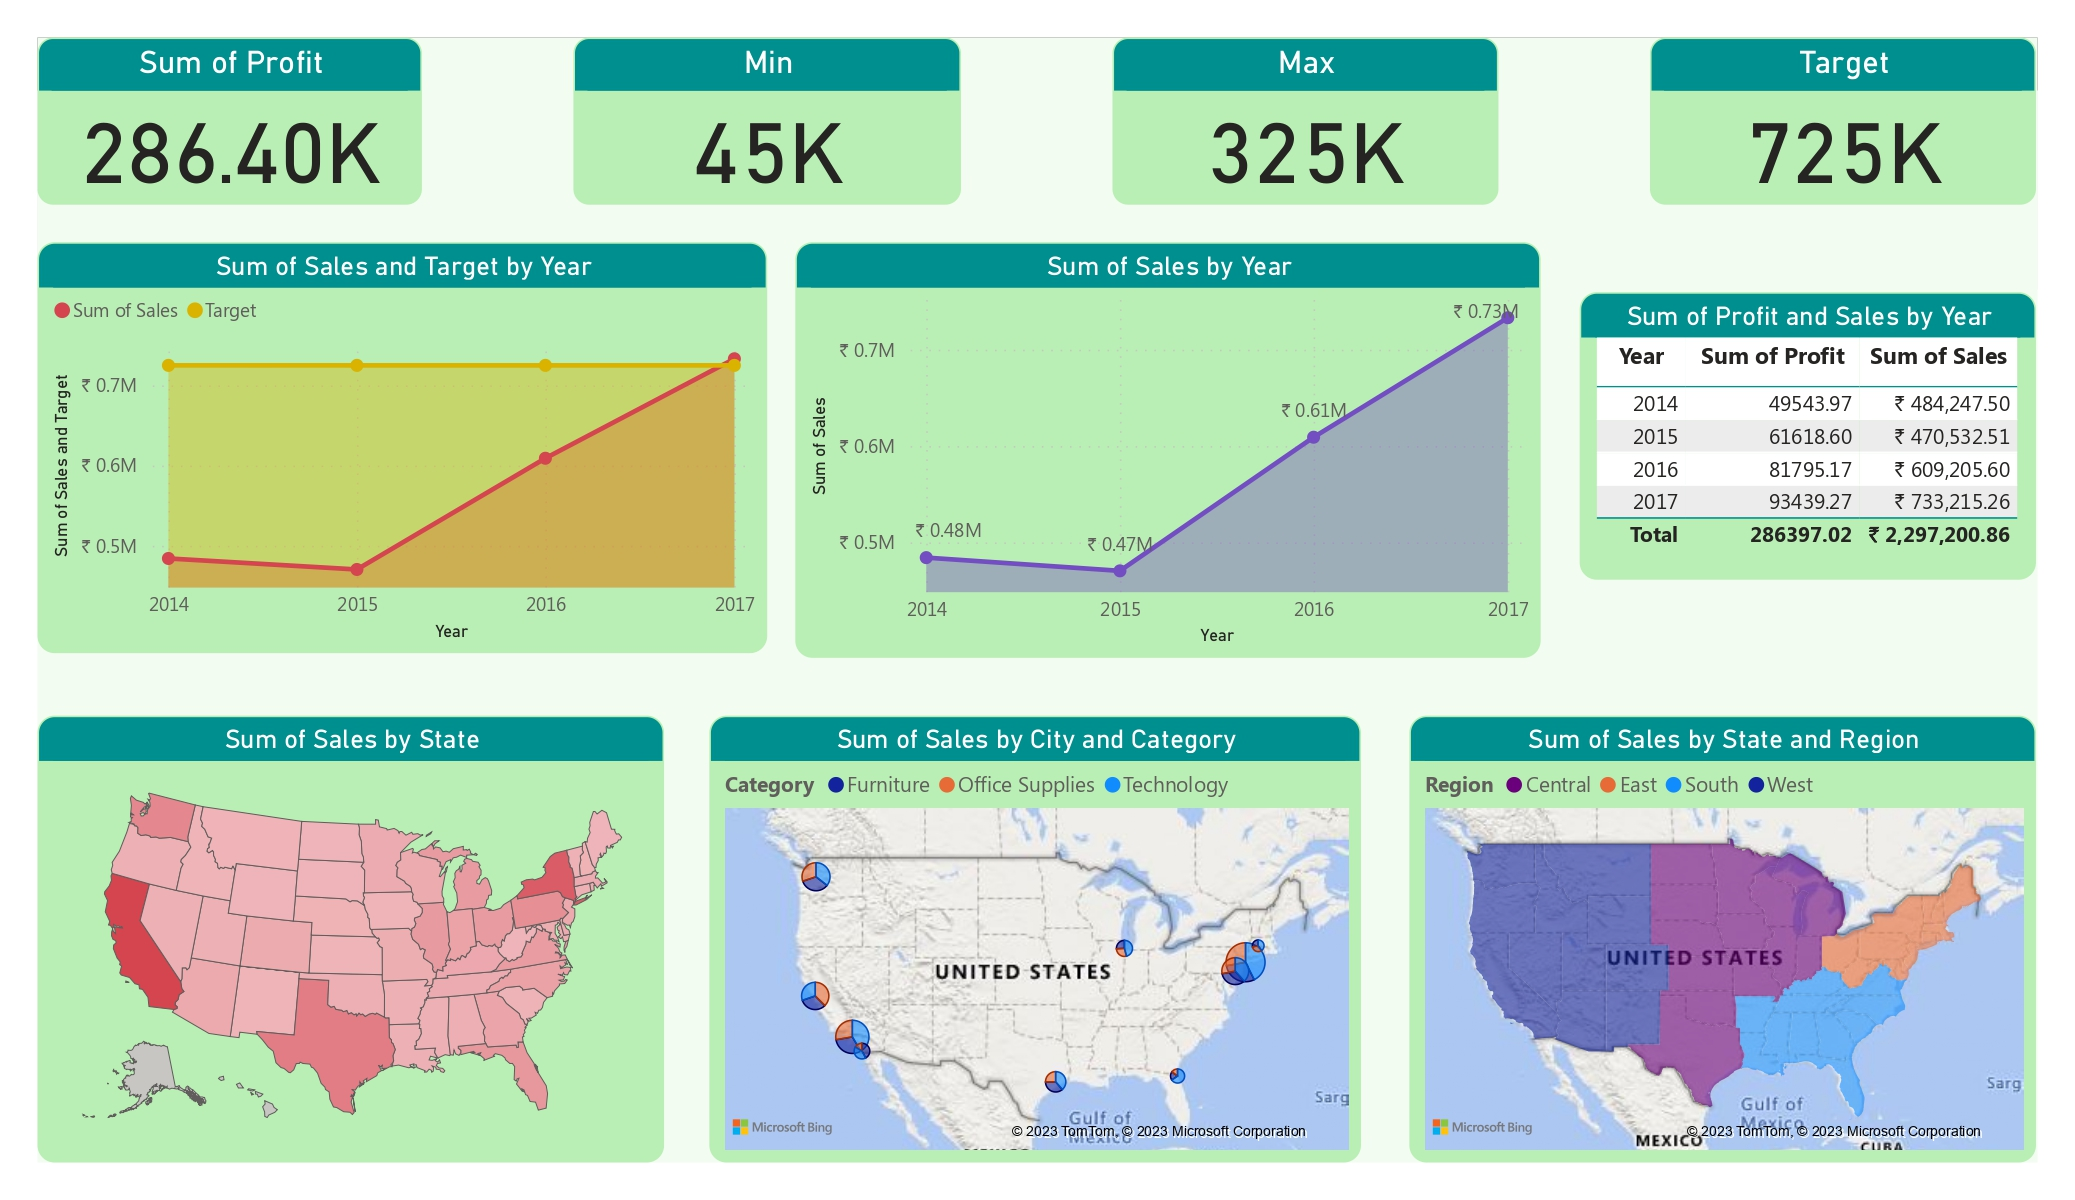

The dashboard page shown, as its layout file describes it:
{"tool":"powerbi","page":{"name":"Page 9","canvas":[1280,720],"ordinal":8},"visuals":[{"type":"map","fields":{"Size":["Sum(Orders.Sales)"],"Category":["Orders.City"],"Series":["Orders.Category"]},"box":[429.5,434,417.1,286],"z":0},{"type":"filledMap","fields":{"Category":["Orders.State"],"Series":["Orders.Region"]},"box":[878.2,434,401.3,286],"z":1000},{"type":"shapeMap","fields":{"Value":["Sum(Orders.Sales)"],"Category":["Orders.State"]},"box":[0,434,401.3,286],"z":2000},{"type":"card","title":"Sum of Profit ","fields":{"Values":["Sum(Orders.Profit)"]},"box":[0,0,246.4,107.4],"z":3000},{"type":"card","title":"Min","fields":{"Values":["Orders.Min"]},"box":[343.2,0,247.5,107.4],"z":4000},{"type":"card","title":"Max","fields":{"Values":["Orders.Max"]},"box":[687.6,0,247.5,107.4],"z":5000},{"type":"card","title":"Target","fields":{"Values":["Orders.Target"]},"box":[1032,0,247.5,107.4],"z":6000},{"type":"tableEx","title":"Sum of Profit and Sales by Year","fields":{"Values":["Orders.Order Date.Variation.Date Hierarchy.Year","Sum(Orders.Profit)","Sum(Orders.Sales)"]},"box":[986.8,162.8,292.7,184.2],"z":7000},{"type":"areaChart","fields":{"Category":["Orders.Order Date.Variation.Date Hierarchy.Year"],"Y":["Sum(Orders.Sales)","Orders.Target"]},"box":[0,131.1,466.8,263.4],"z":8000},{"type":"areaChart","fields":{"Category":["Orders.Order Date.Variation.Date Hierarchy.Year"],"Y":["Sum(Orders.Sales)"]},"box":[484.9,131.1,477,265.6],"z":9000}]}

Visuals, with their boxes on the page's 1280x720 design canvas (x1, y1, x2, y2). These are canvas units, not pixel positions in the 2075x1200 screenshot, which may show the page scaled, cropped or inside an application window:
map - Sum(Orders.Sales) x Orders.City: Rect(430, 434, 847, 720)
filledMap - Orders.State x Orders.Region: Rect(878, 434, 1280, 720)
shapeMap - Sum(Orders.Sales) x Orders.State: Rect(0, 434, 401, 720)
"Sum of Profit " card: Rect(0, 0, 246, 107)
"Min" card: Rect(343, 0, 591, 107)
"Max" card: Rect(688, 0, 935, 107)
"Target" card: Rect(1032, 0, 1280, 107)
"Sum of Profit and Sales by Year" tableEx: Rect(987, 163, 1280, 347)
areaChart - Orders.Order Date.Variation.Date Hierarchy.Year x Sum(Orders.Sales): Rect(0, 131, 467, 394)
areaChart - Orders.Order Date.Variation.Date Hierarchy.Year x Sum(Orders.Sales): Rect(485, 131, 962, 397)
